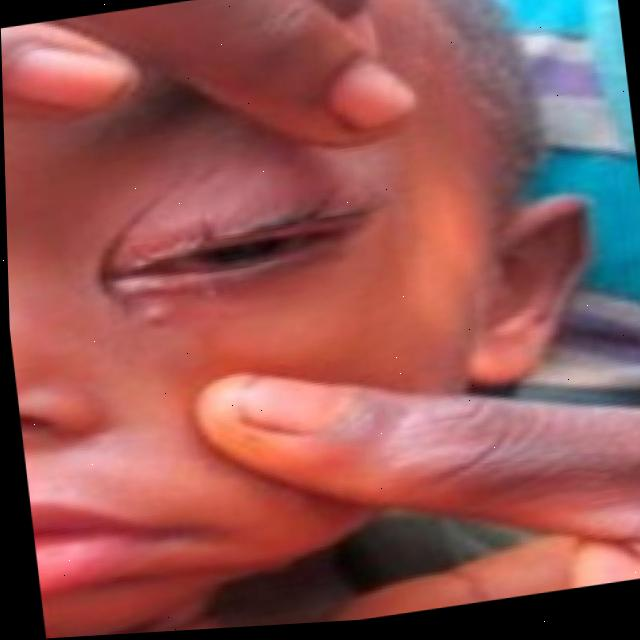Eczema: (112, 178, 367, 330)
